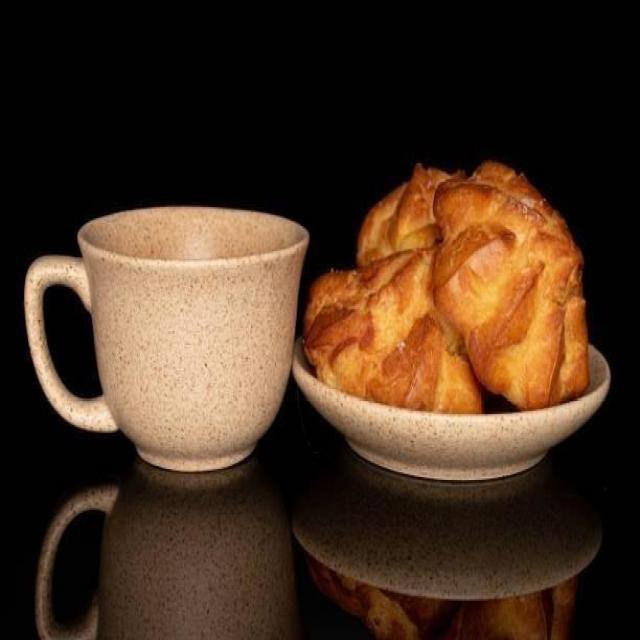cup-handle: (23, 201, 311, 475)
